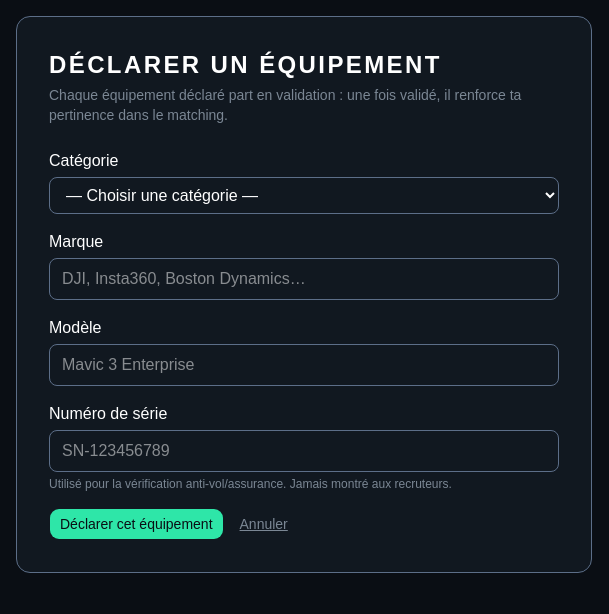
Page Déclarer un équipement (SH-43) › refuse un numéro de série trop court (< 5 caractères) sans appel réseau
Select "Drone" in the dropdown labelled "Catégorie" at (304, 196), box [49,177,559,214]
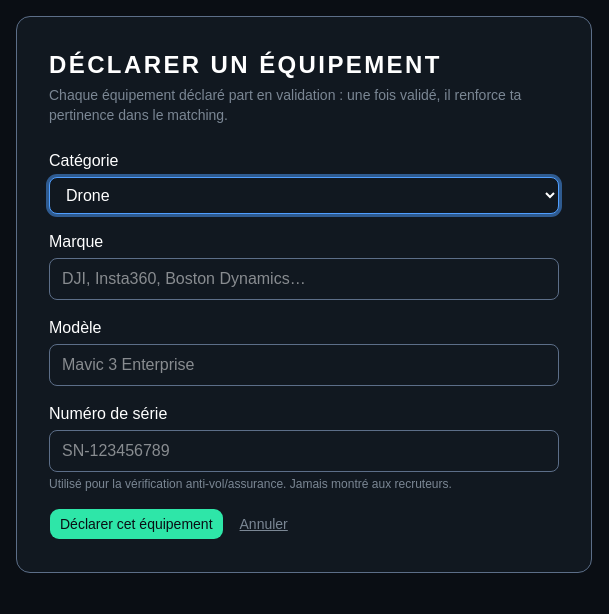
Type "DJI" into the field labelled "Marque" at (304, 279), box [49,258,559,300]
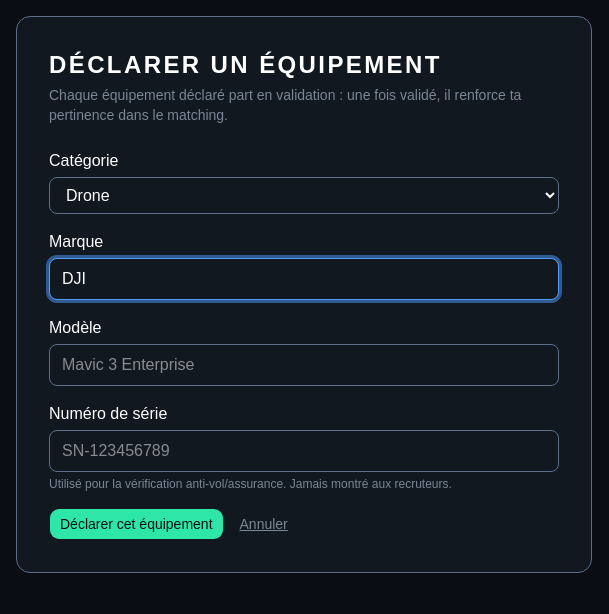
Type "Mavic 3" into the field labelled "Modèle" at (304, 365), box [49,344,559,386]
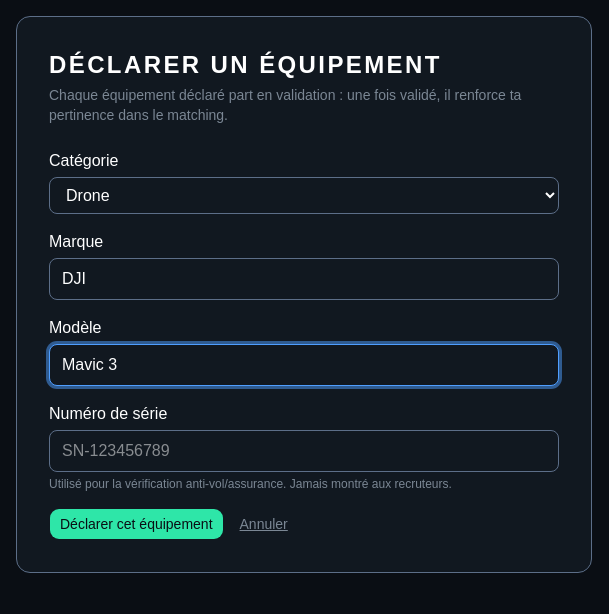
Type "SN-1" into the field labelled "Numéro de série" at (304, 451), box [49,430,559,472]
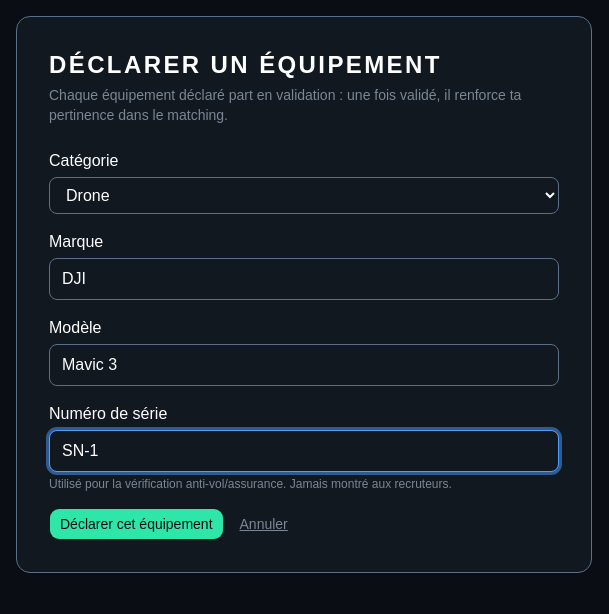
Click the button "Déclarer cet équipement" at (136, 524), box [49,508,224,540]
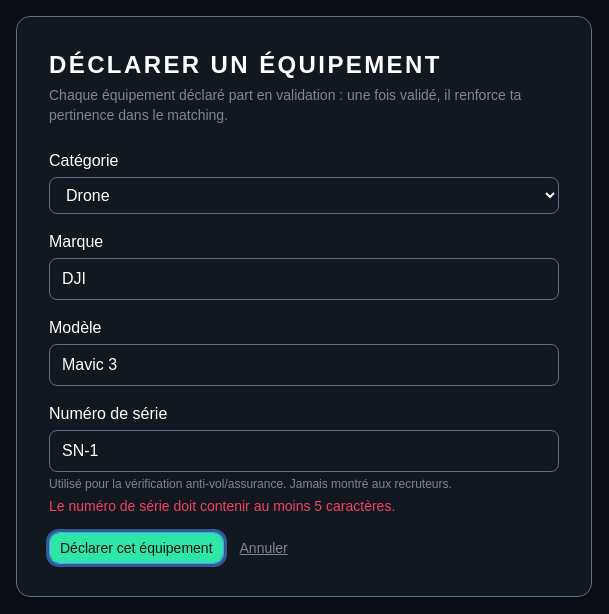
Expected: the text "Le numéro de série doit contenir au moins 5 caractères." is shown, [49,498,395,514]
